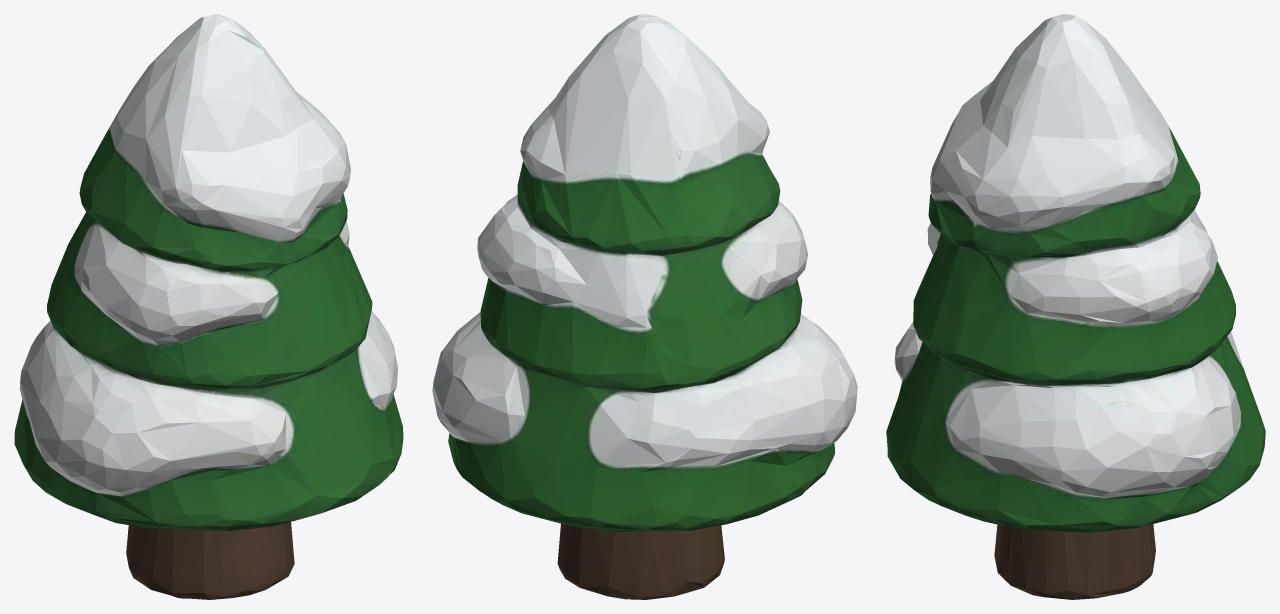
File: tree_pine_snow.glb
3 renders of one model, left to right at view 1: azimuth 30°, elevation 25°; view 2: azimuth 150°, elevation 25°; view 3: azimuth 270°, elevation 25°, orthographic.
Visible parts, largest first — view 1: tmpt6zt2229.ply; view 2: tmpt6zt2229.ply; view 3: tmpt6zt2229.ply.
Boxes of the visible parts, left/top/right/bottom form: tmpt6zt2229.ply: left=14, top=14, right=403, bottom=599; tmpt6zt2229.ply: left=432, top=14, right=857, bottom=599; tmpt6zt2229.ply: left=886, top=14, right=1265, bottom=599.
Bounding box in the file's own units: 1.36 × 1.99 × 1.24.
1 material, 1 textured.
